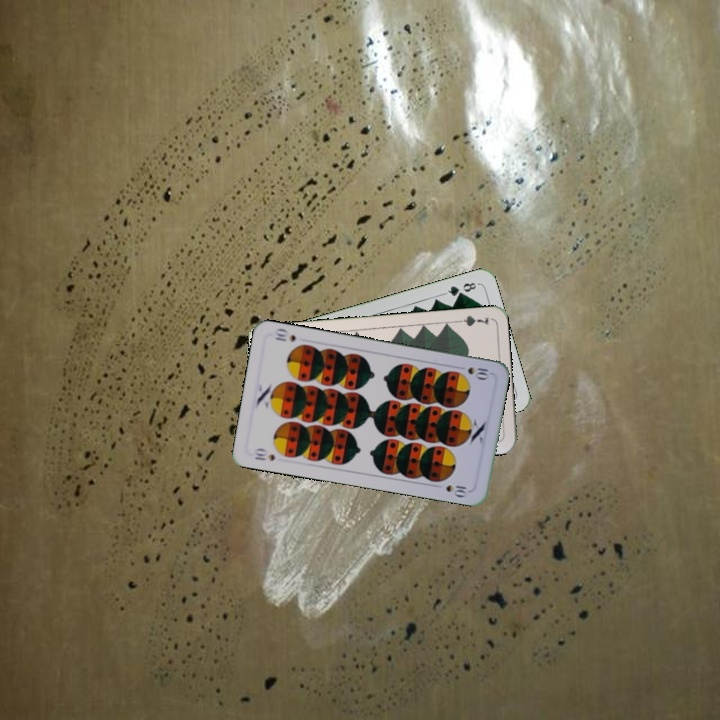G7: (451, 311, 491, 329)
G8: (441, 278, 480, 299)
S10: (250, 444, 278, 464), (463, 363, 493, 381)
